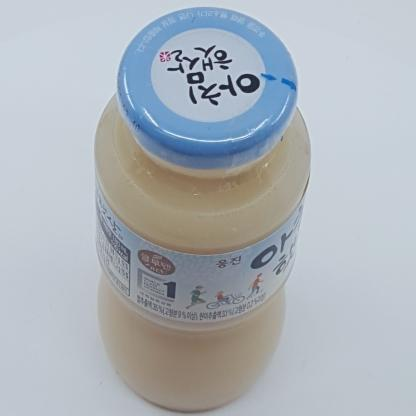------180ML: (94, 7, 311, 412)
